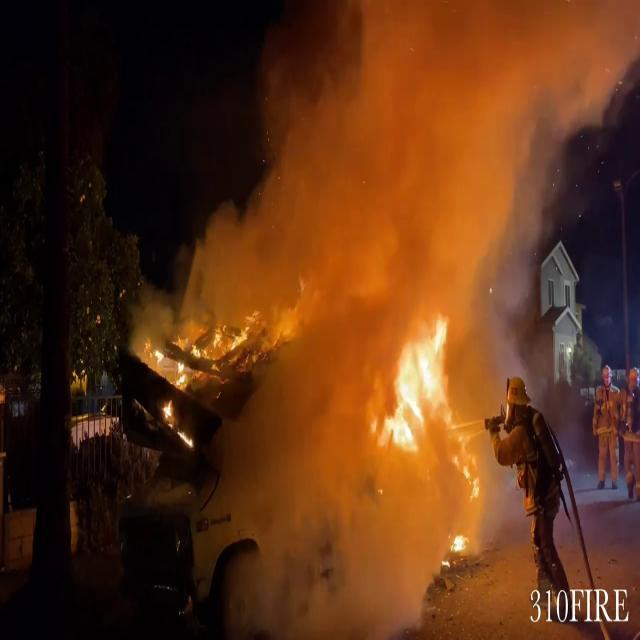Fire: (372, 306, 484, 540), (148, 301, 238, 411)
Smoke: (192, 1, 552, 602)
